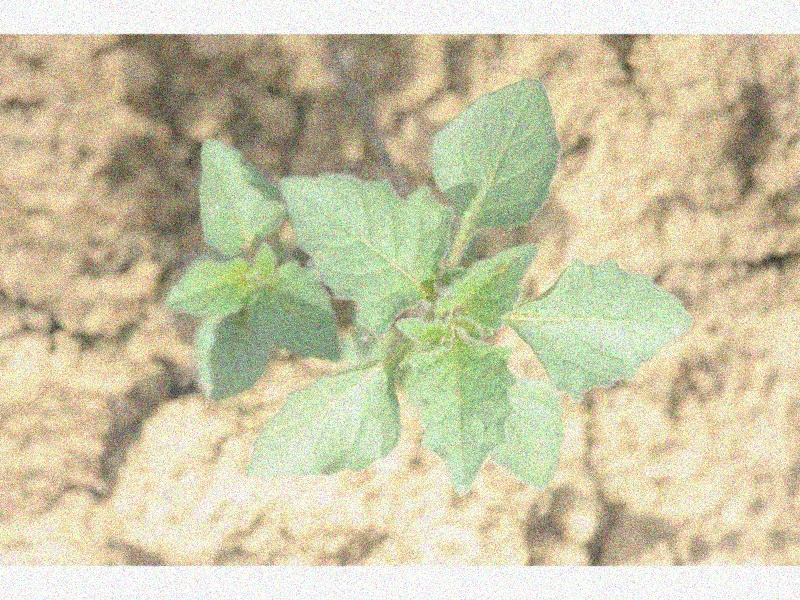nightshade: (164, 78, 694, 500)
